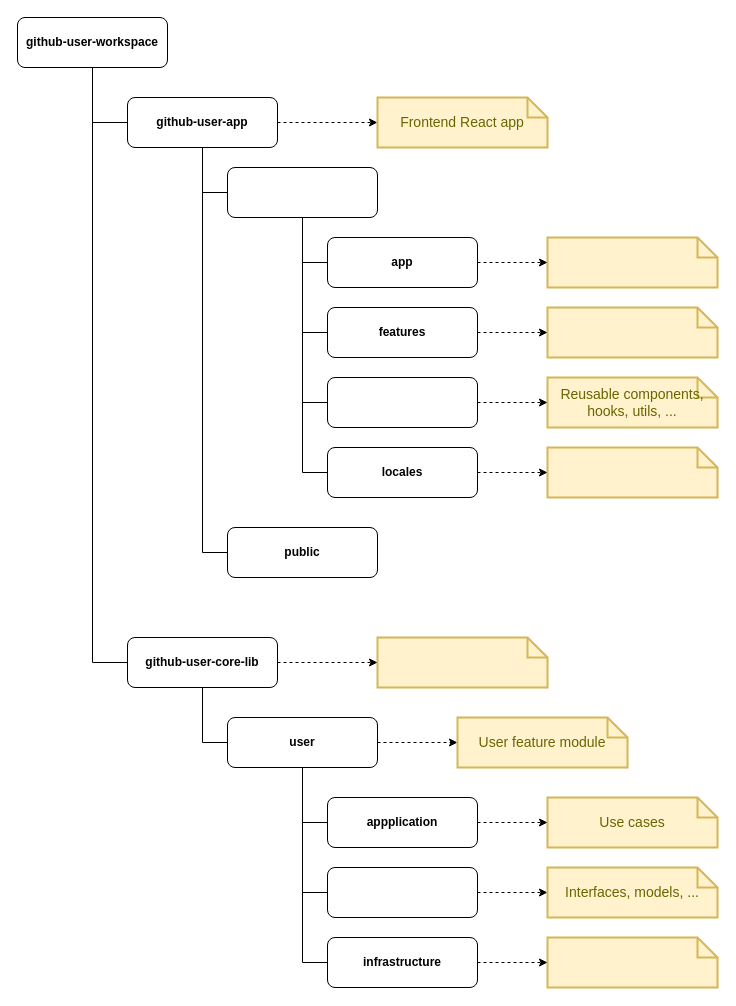
Some shapes in this 736 by 1006 pixel diagram are drawn without their labels. Each missing label, with the box of its shape:
API implementations: (546, 936, 718, 988)
App level config: (546, 236, 718, 288)
Core domain logic (DDD): (376, 636, 548, 688)
domain: (326, 866, 478, 918)
Feature folders (DDD): (546, 306, 718, 358)
Multi language config: (546, 446, 718, 498)
shared: (326, 376, 478, 428)
src: (226, 166, 378, 218)
